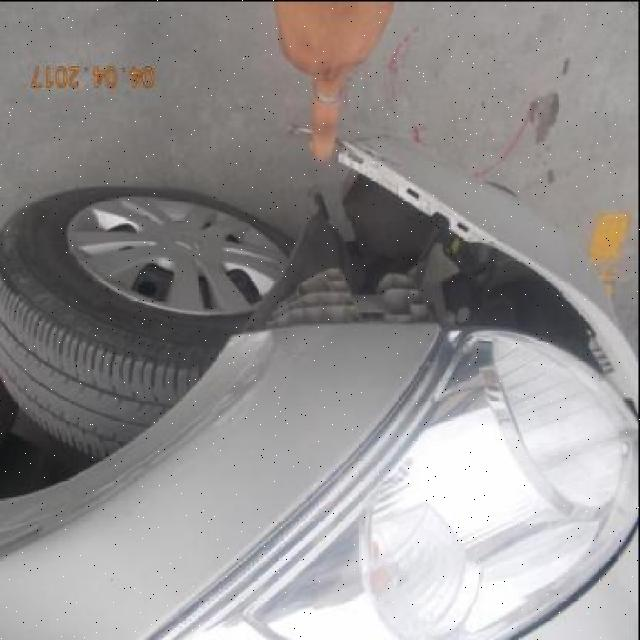damage: (229, 125, 616, 373), (2, 333, 277, 561)
